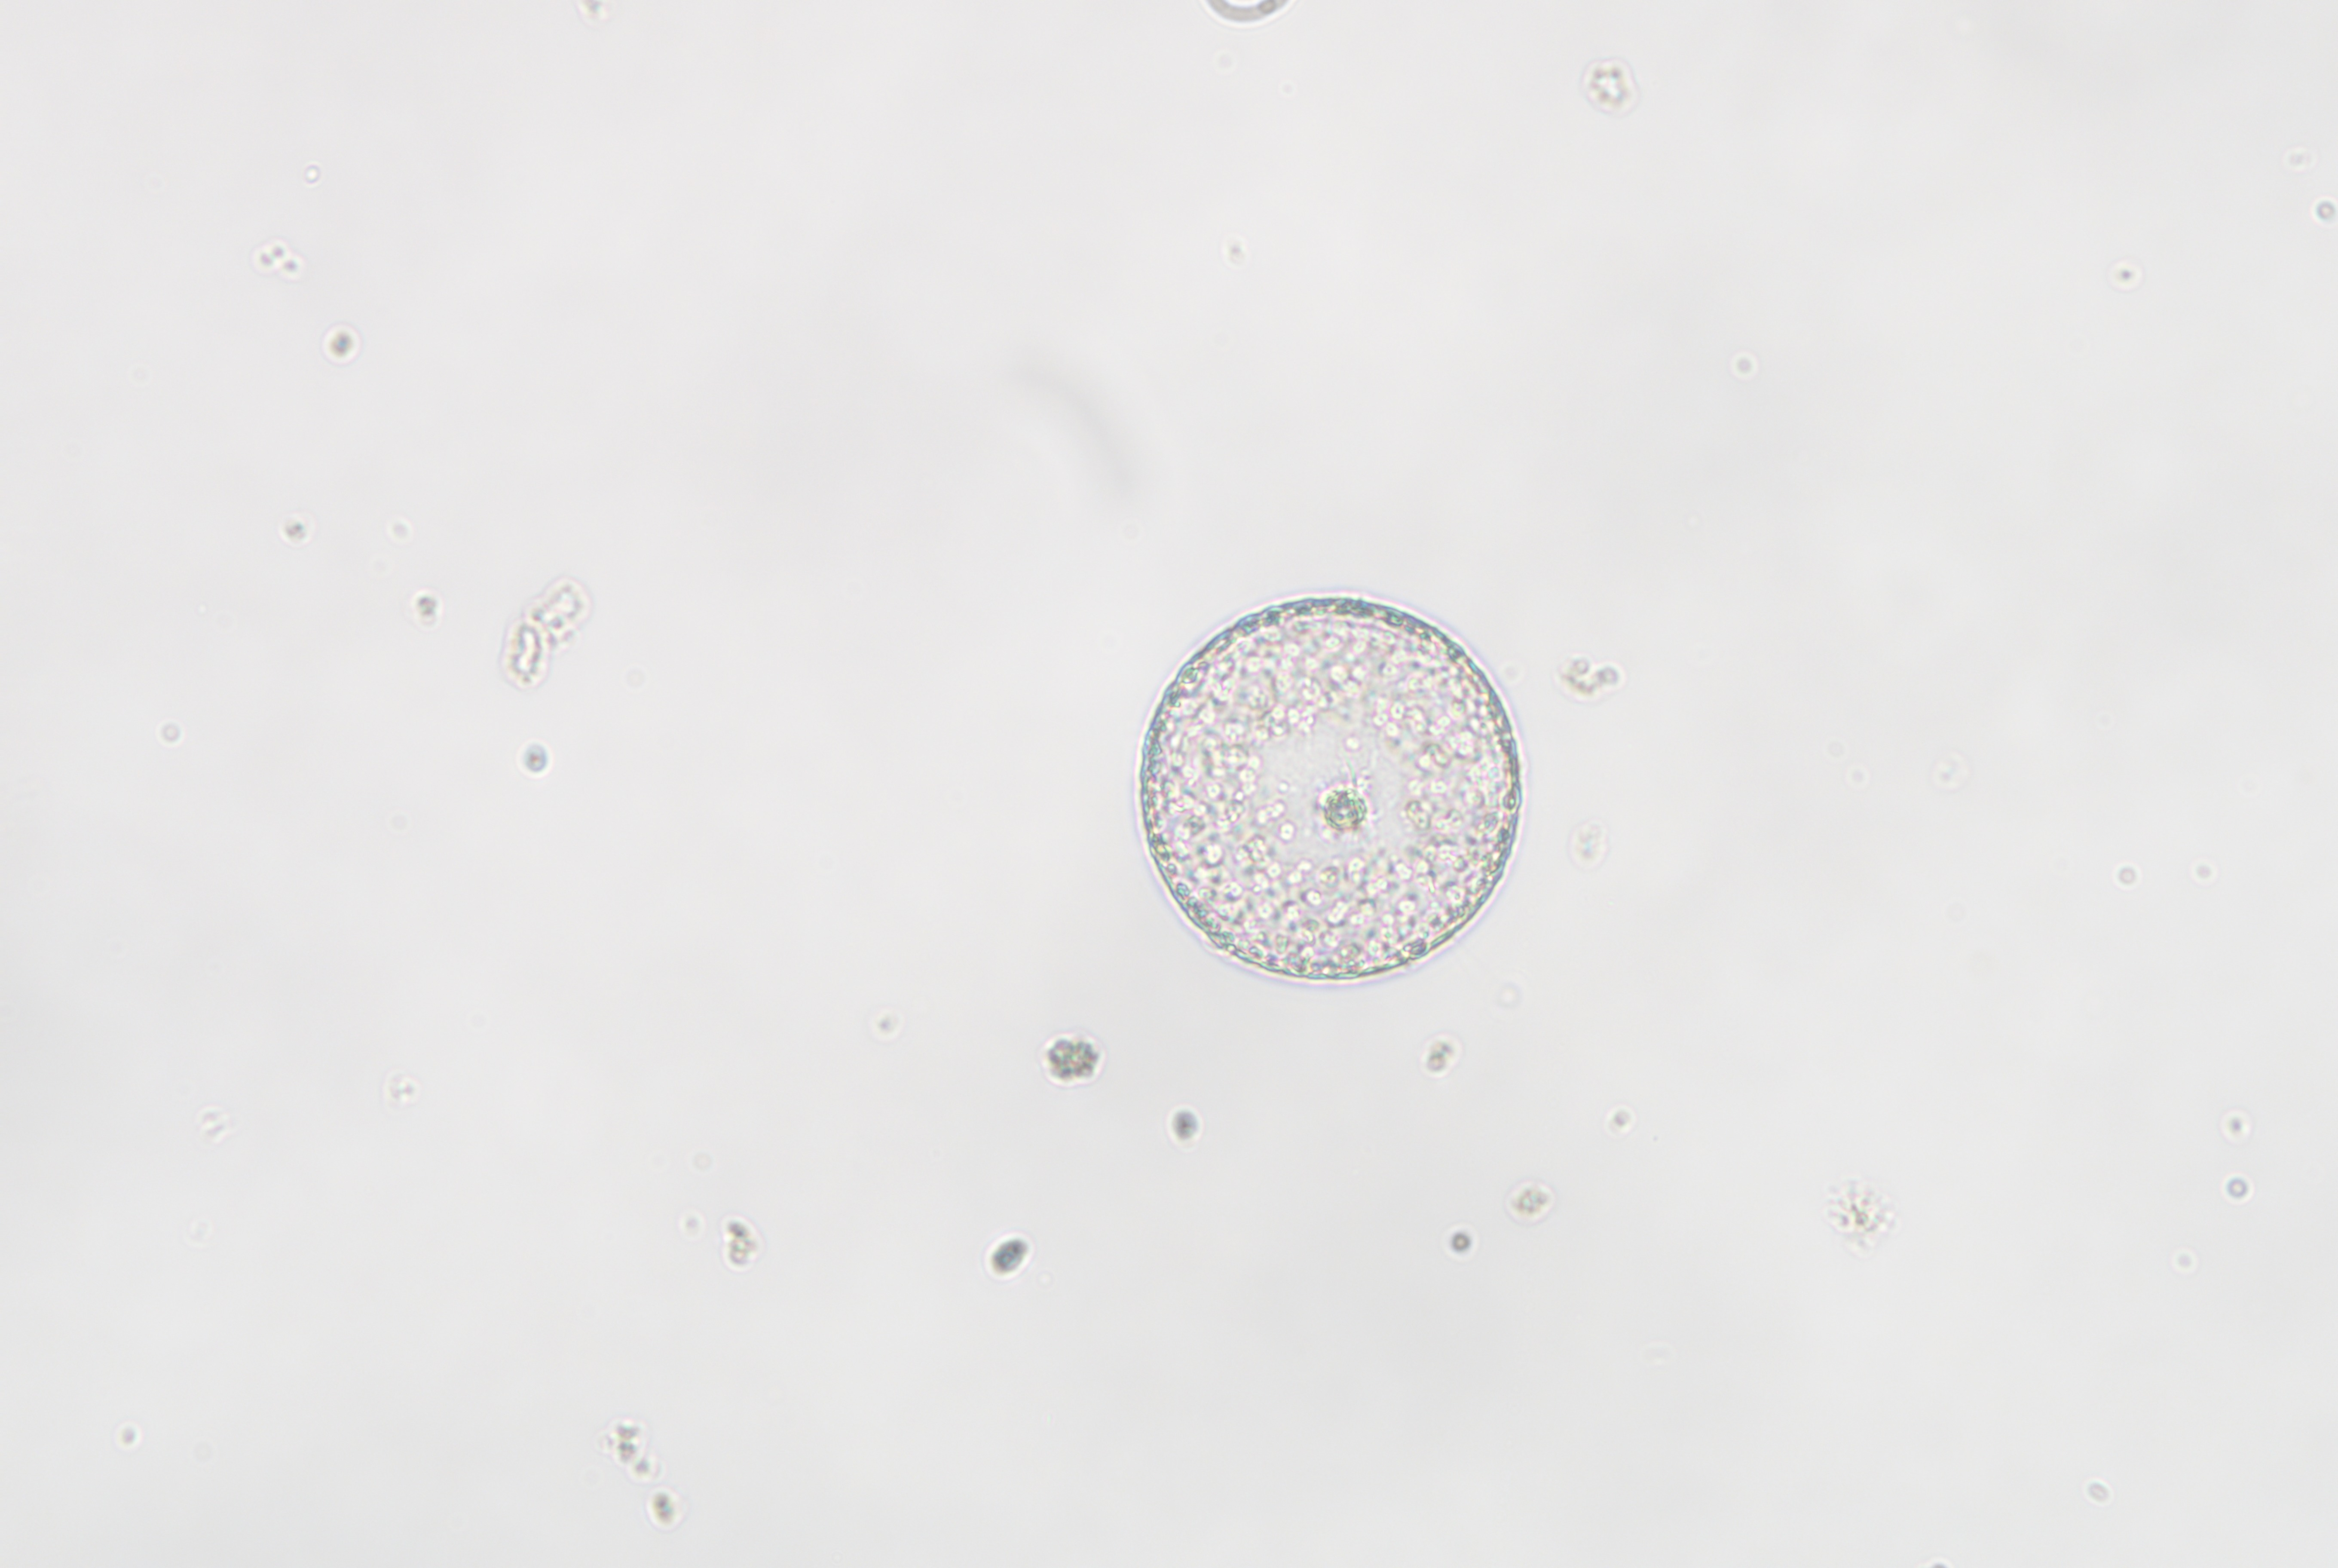coscinodiscus: (1138, 598, 1526, 983)
